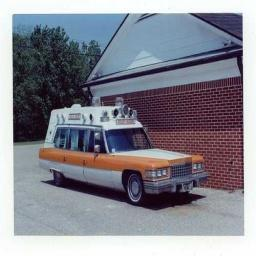Ambulance: (39, 97, 207, 204)
